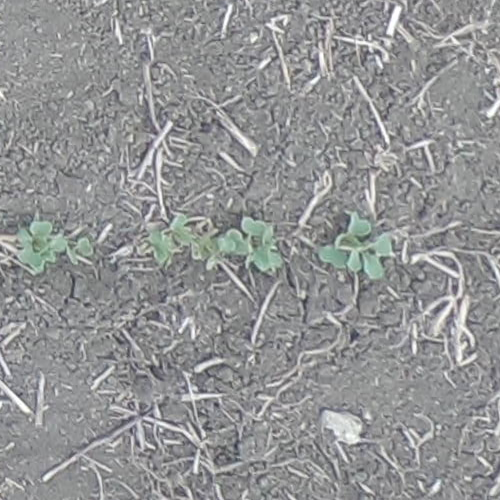plant: (319, 214, 392, 280), (219, 218, 283, 270), (16, 221, 65, 278), (150, 215, 192, 262), (66, 235, 92, 265)
